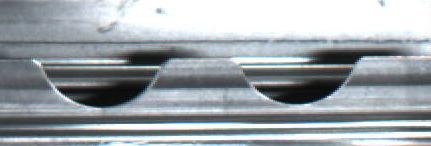twou: (38, 52, 360, 116)
